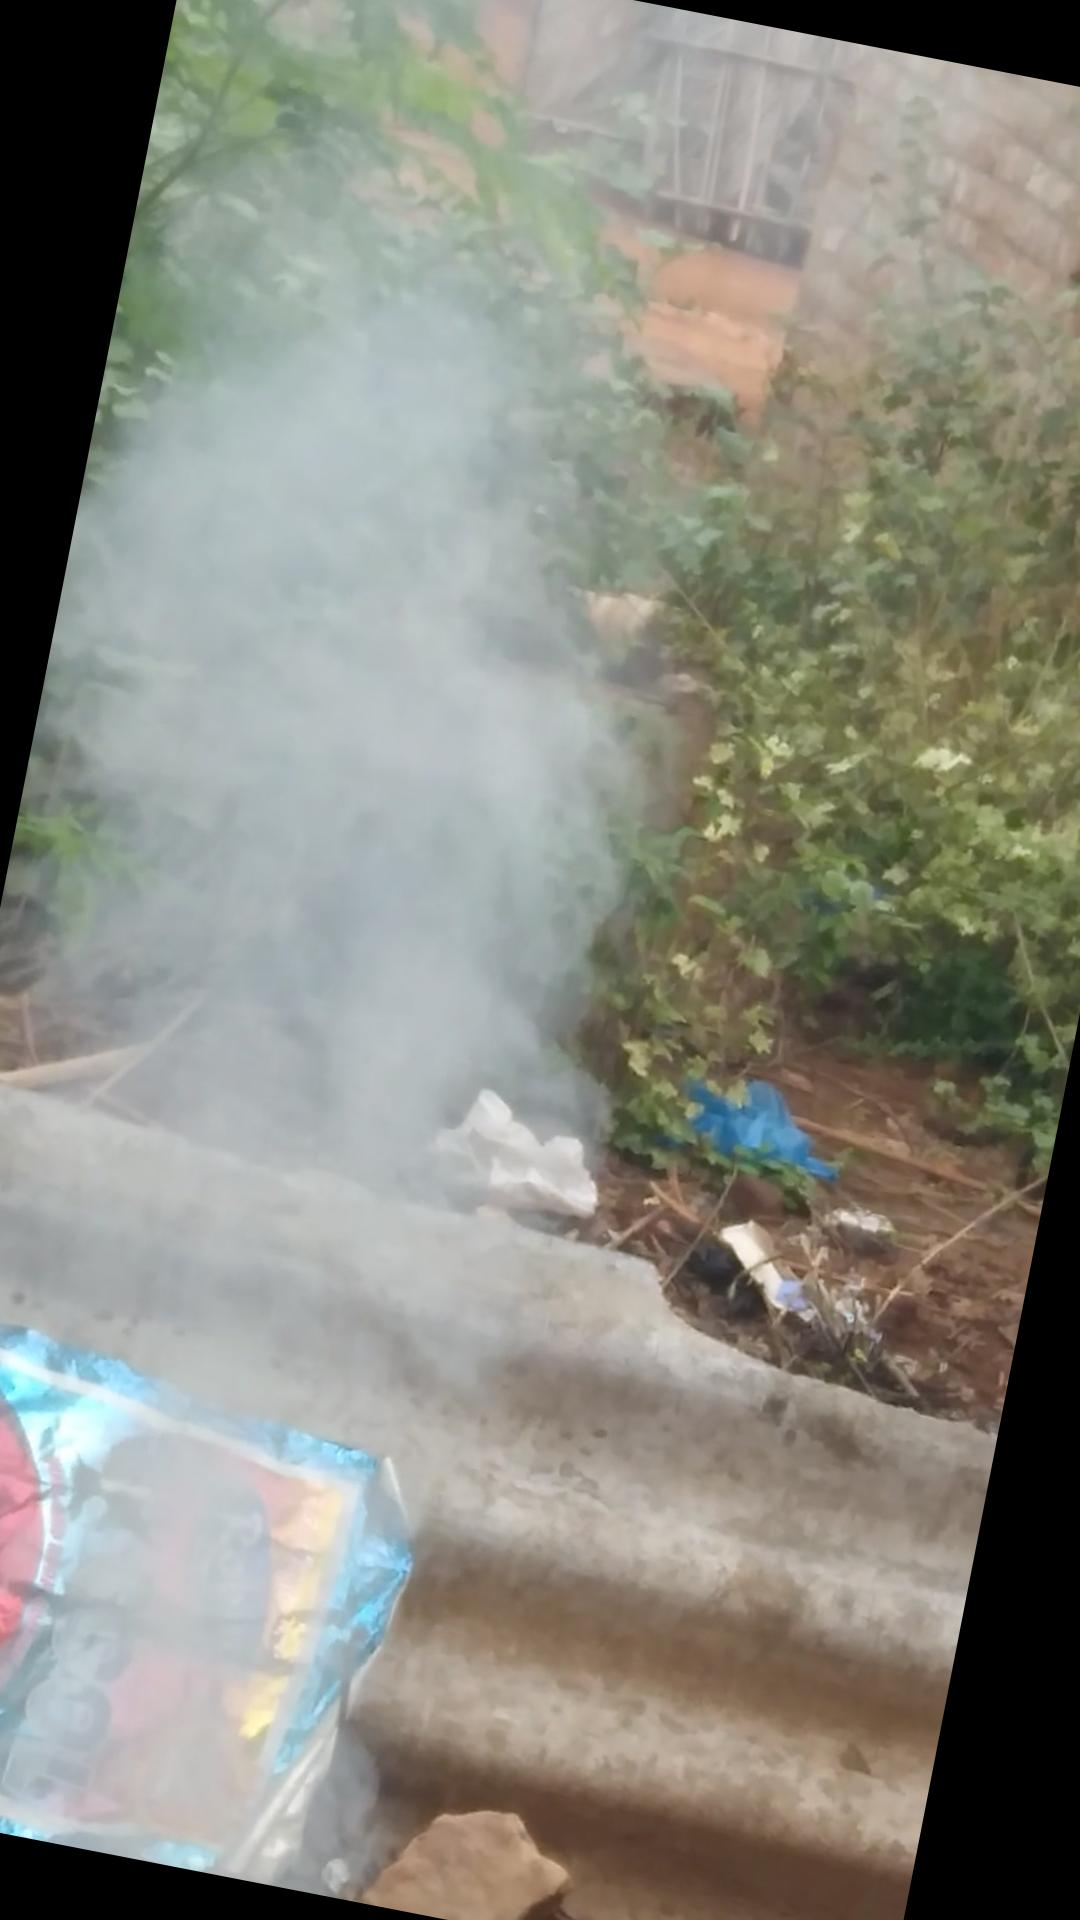Smoke: (0, 91, 796, 1419)
